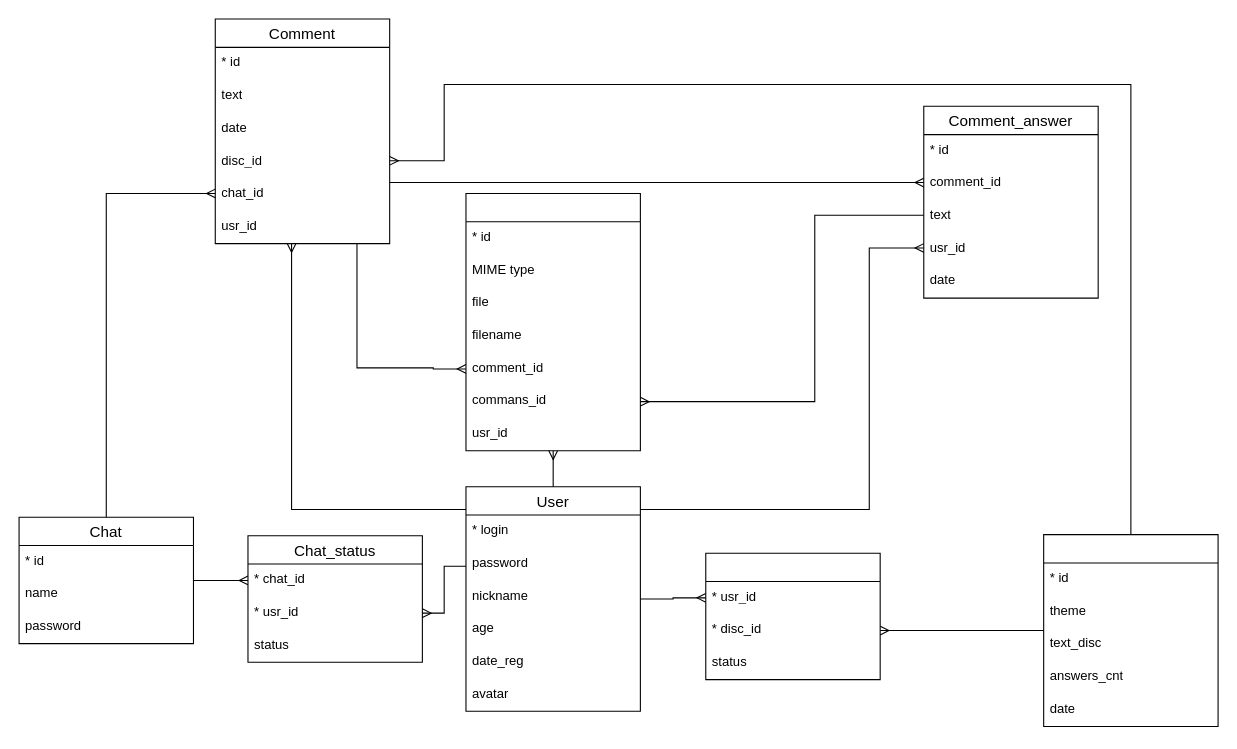
Some shapes in this 1237 by 749 pixel diagram are drawn without their labels. The box of each missing label's shape, as (x1, y1, x2, y2) in pixels:
Attachment: (465, 192, 640, 451)
Disc_status: (705, 552, 880, 680)
Discussion: (1043, 534, 1218, 726)
